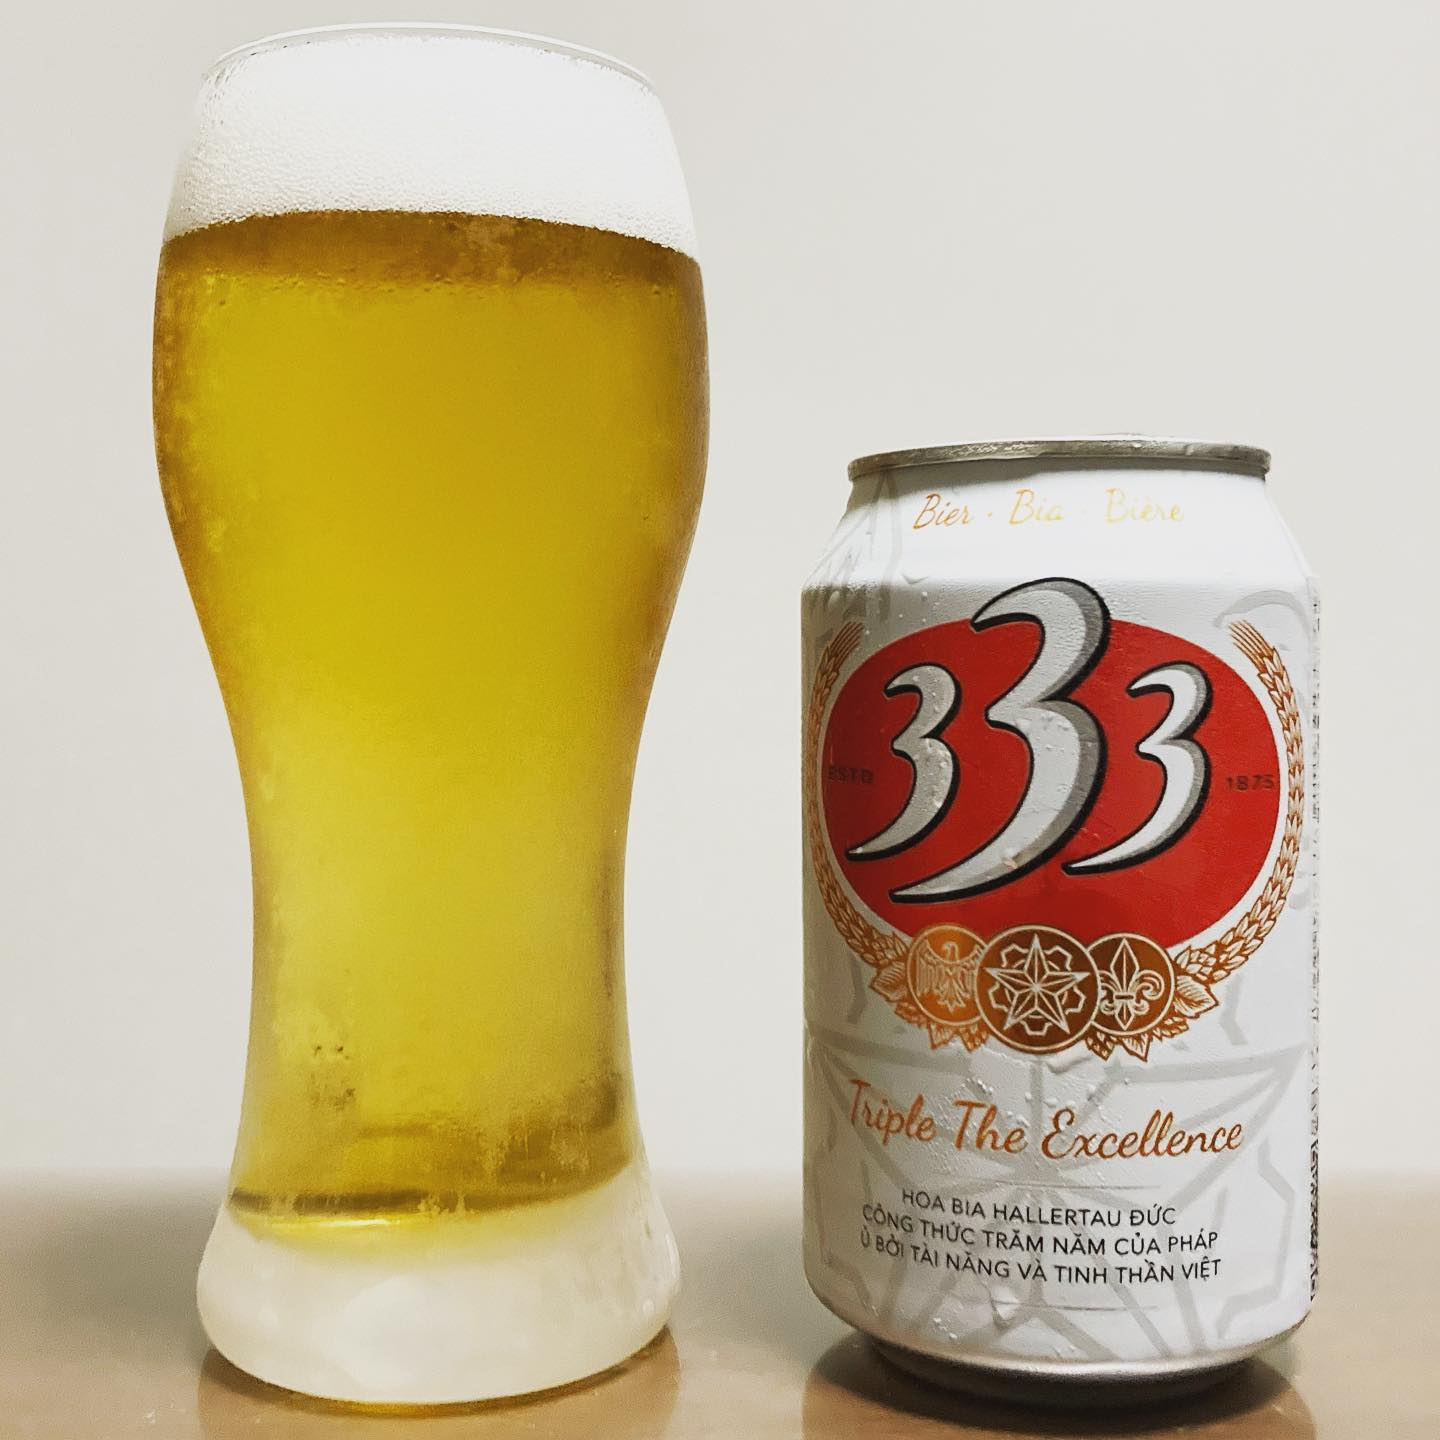alcohol: (142, 16, 717, 1419), (790, 429, 1333, 1419)
